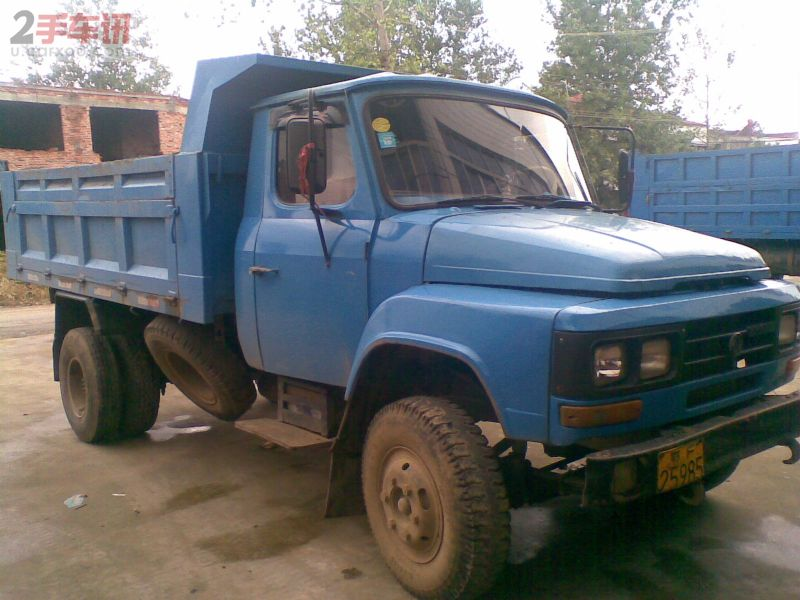truck: (32, 83, 779, 569)
